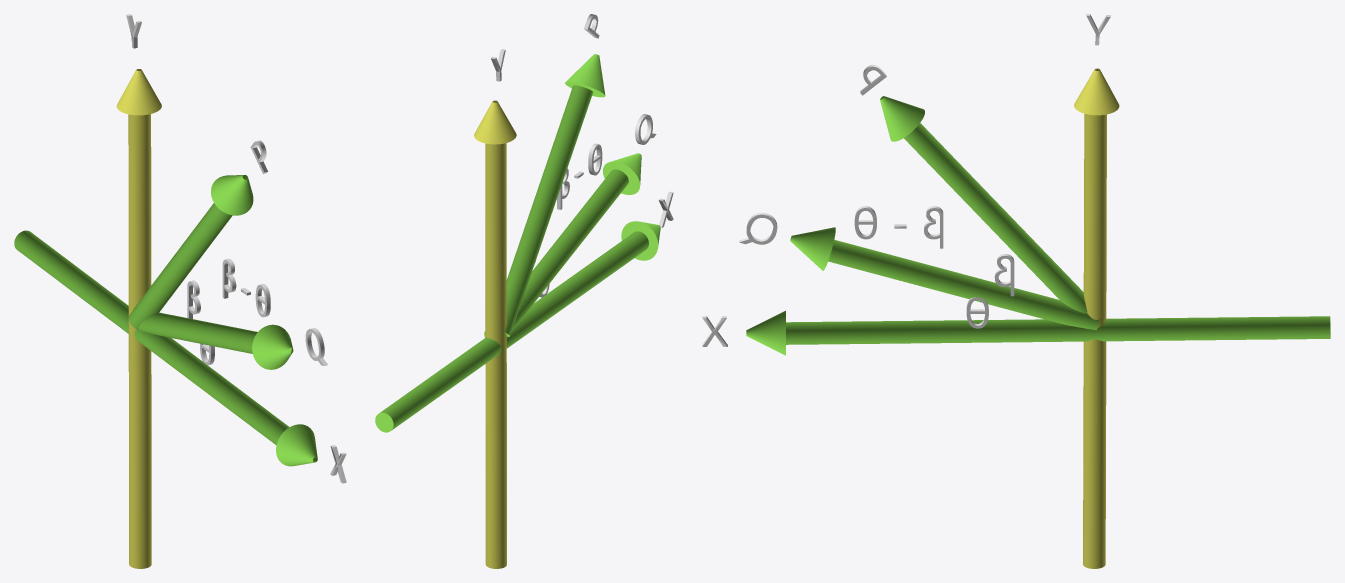
3 renders of one model, left to right at view 1: azimuth 30°, elevation 25°; view 2: azimuth 150°, elevation 25°; view 3: azimuth 270°, elevation 25°, orthographic. The views are drawn at different scales.
Visible parts, largest first — view 1: Cylinder.040, Cylinder.041, Cylinder.039, Cylinder.038, Cone.031, Cone.032, Cone.034, Cone.033; view 2: Cylinder.040, Cylinder.041, Cylinder.039, Cylinder.038, Cone.033, Cone.032, Cone.031, Cone.034; view 3: Cylinder.041, Cylinder.040, Cylinder.038, Cylinder.039, Cone.033, Cone.032, Cone.031, Cone.034.
Part boxes in pixels (x1=…): Cylinder.040: x1=128, y1=114, x2=151, y2=568; Cylinder.041: x1=14, y1=230, x2=289, y2=445; Cylinder.039: x1=129, y1=203, x2=232, y2=329; Cylinder.038: x1=138, y1=312, x2=257, y2=353; Cone.031: x1=252, y1=324, x2=293, y2=369; Cone.032: x1=211, y1=175, x2=253, y2=215; Cone.034: x1=276, y1=424, x2=317, y2=466; Cone.033: x1=116, y1=69, x2=161, y2=115; Cylinder.040: x1=485, y1=143, x2=506, y2=568; Cylinder.041: x1=375, y1=231, x2=648, y2=432; Cylinder.039: x1=504, y1=85, x2=593, y2=336; Cylinder.038: x1=484, y1=169, x2=628, y2=337; Cone.033: x1=474, y1=100, x2=516, y2=144; Cone.032: x1=565, y1=54, x2=605, y2=97; Cone.031: x1=603, y1=153, x2=641, y2=194; Cone.034: x1=621, y1=221, x2=660, y2=260; Cylinder.041: x1=786, y1=316, x2=1330, y2=344; Cylinder.040: x1=1083, y1=113, x2=1106, y2=568; Cylinder.038: x1=828, y1=239, x2=1099, y2=330; Cylinder.039: x1=904, y1=123, x2=1087, y2=313; Cone.033: x1=1074, y1=68, x2=1119, y2=115; Cone.032: x1=880, y1=96, x2=924, y2=141; Cone.031: x1=790, y1=227, x2=835, y2=270; Cone.034: x1=746, y1=310, x2=785, y2=355.
Size of the model in its own units: 0.0214 by 0.2657 by 0.2765.
